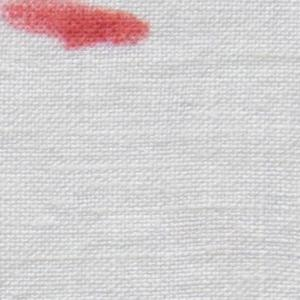Stain: (1, 1, 159, 54)
